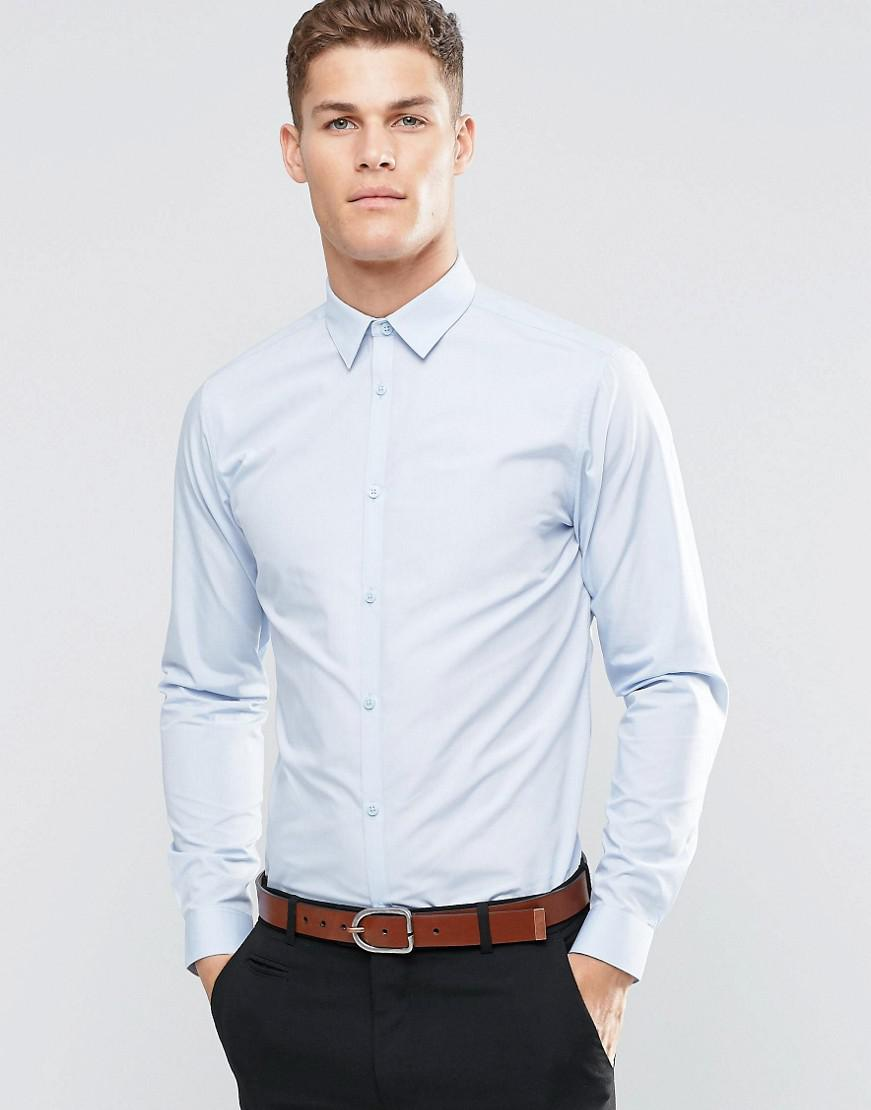teeshirt: (149, 273, 727, 996)
